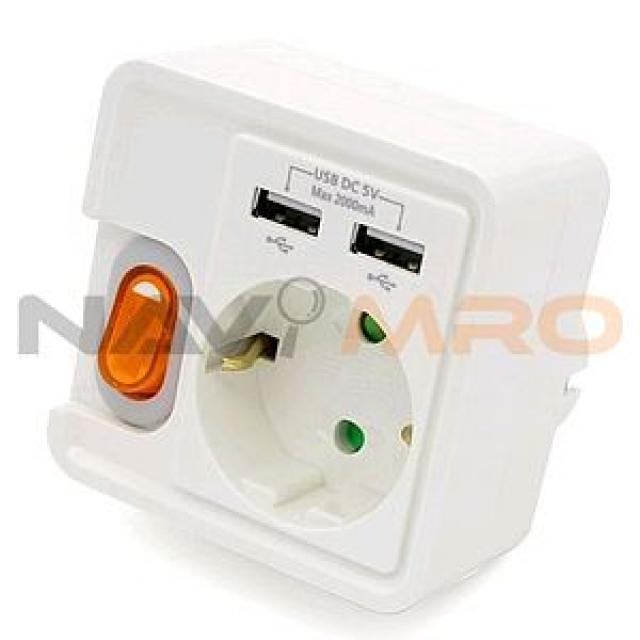typeb: (94, 101, 477, 587)
